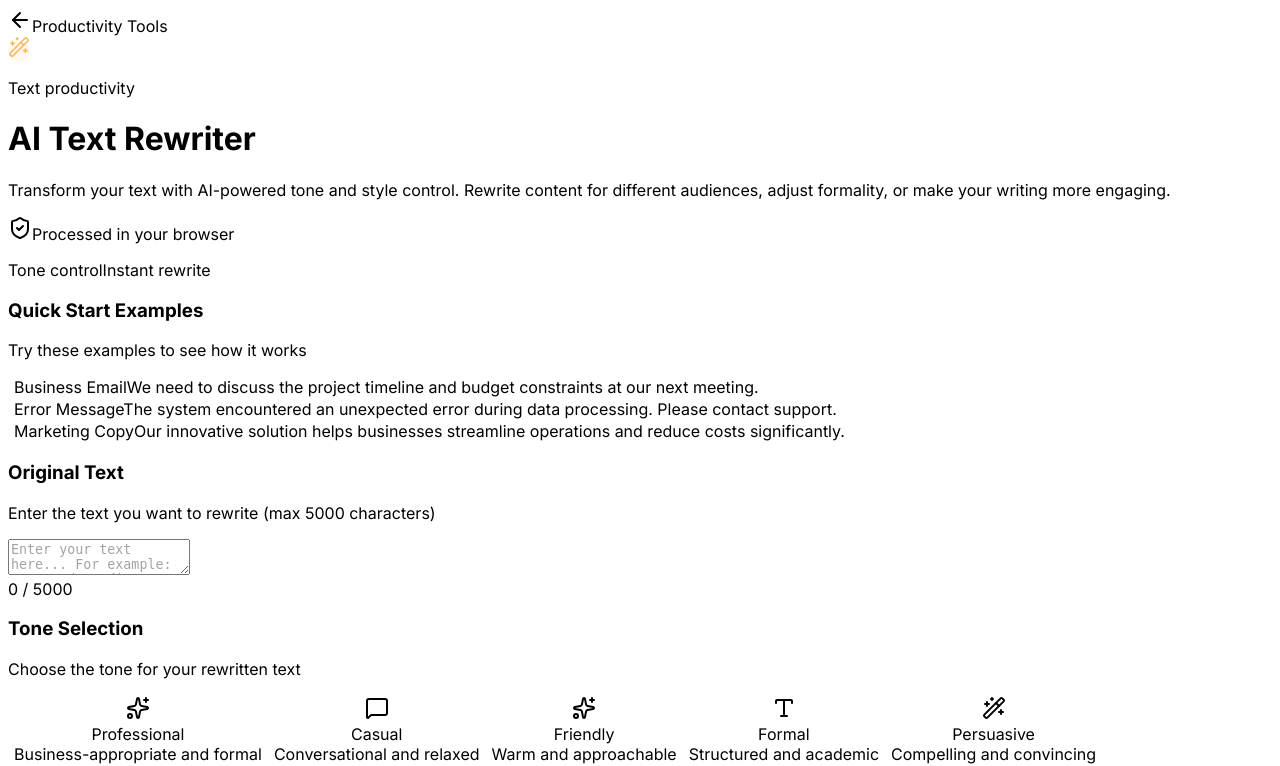
Test: AI Text Rewriter - Text Input Tests › should display character count
The image size is (1280, 766).
Replace the text in the text box with placeholder "Enter your text here" with "Test message" at (99, 557), box [8,539,190,575]
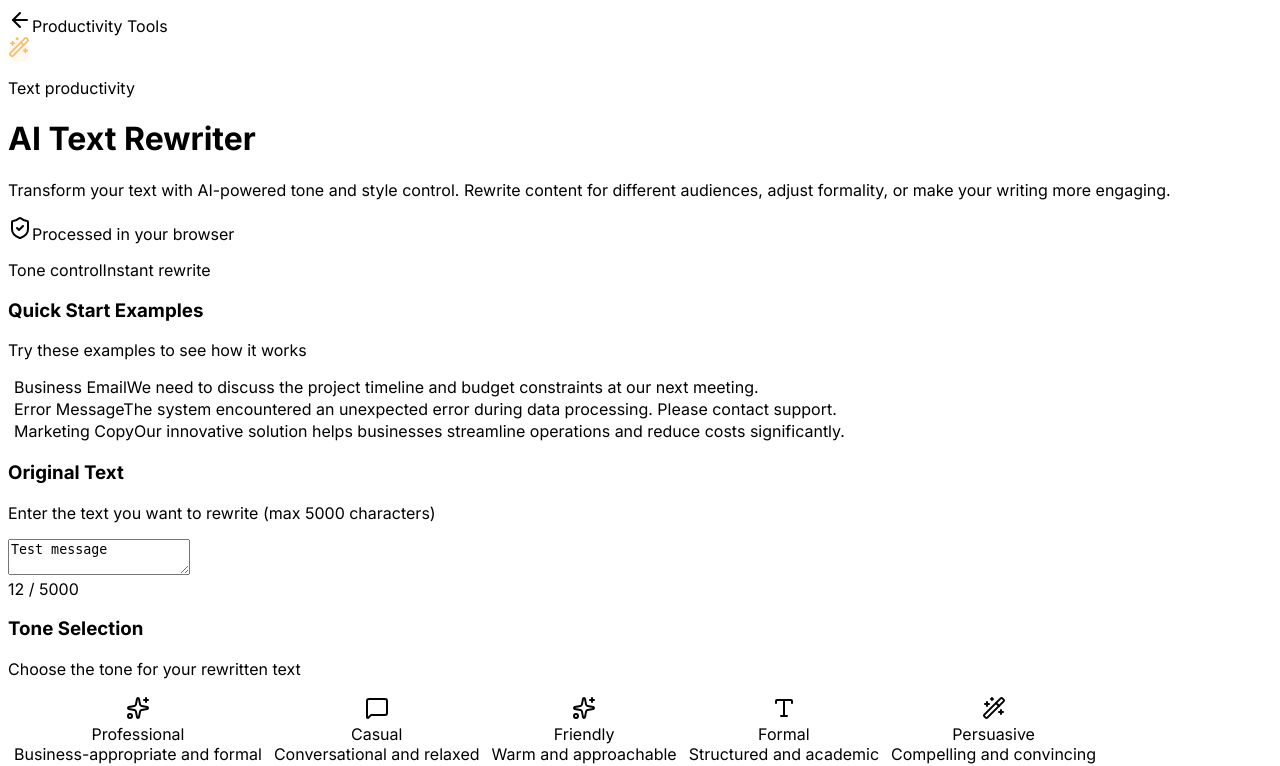
Expected: the text "12 / 5000" is shown, [8,579,79,599]
